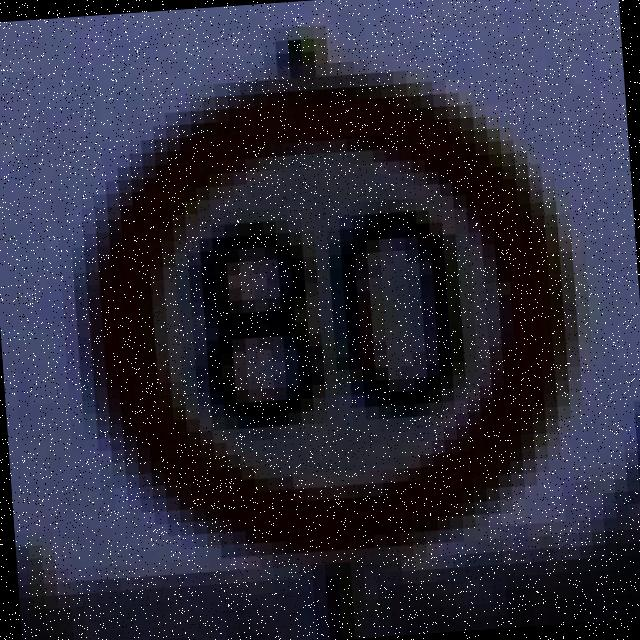Ograniczenie predkosci do 80: (70, 54, 594, 572)
